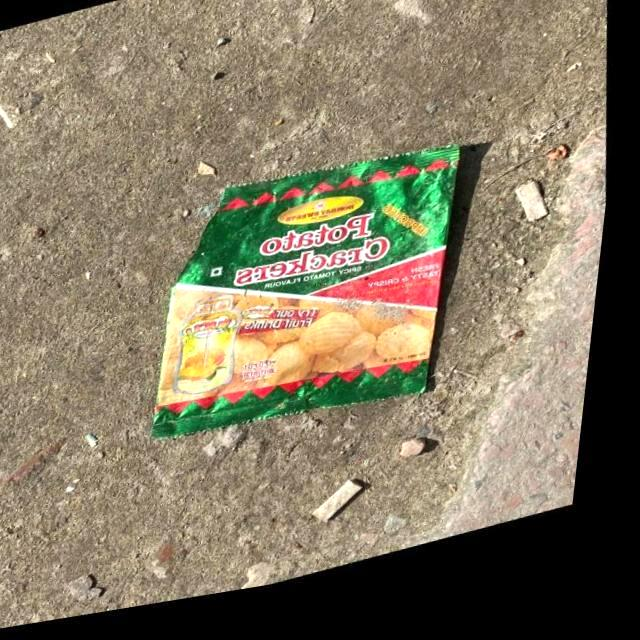packet: (145, 147, 479, 461)
